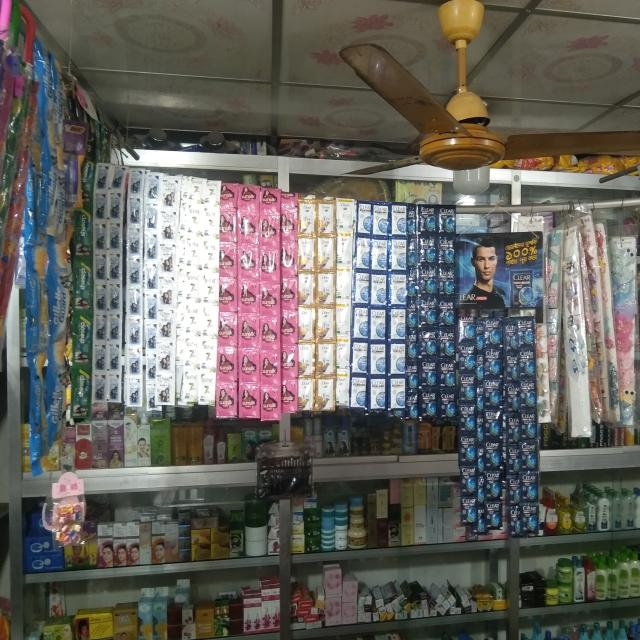non-ubl: (200, 306, 218, 342), (183, 271, 200, 306), (183, 369, 199, 404), (185, 234, 201, 269), (203, 270, 218, 306), (202, 238, 218, 271), (197, 373, 214, 404), (186, 204, 204, 233), (183, 306, 199, 337), (182, 342, 200, 368), (187, 178, 204, 203), (202, 342, 216, 371), (204, 207, 218, 235), (206, 184, 220, 204)
ubl: (70, 311, 92, 370), (70, 370, 92, 424), (72, 258, 92, 310), (296, 304, 318, 346), (367, 304, 390, 344), (457, 401, 479, 441), (314, 342, 337, 379), (387, 235, 411, 270), (370, 234, 390, 276), (295, 376, 317, 414), (73, 210, 91, 256), (387, 272, 408, 311), (314, 306, 334, 346), (296, 342, 317, 379), (258, 244, 279, 281), (238, 314, 259, 351), (388, 306, 410, 341), (215, 348, 237, 383), (238, 242, 258, 280), (238, 280, 260, 314), (314, 378, 337, 410), (216, 383, 237, 418), (296, 235, 316, 271), (259, 281, 279, 317), (458, 315, 479, 349), (154, 372, 175, 406), (519, 502, 538, 539), (259, 381, 278, 418), (417, 199, 436, 236), (354, 272, 373, 309), (239, 383, 259, 418), (238, 350, 259, 383), (371, 271, 389, 309), (389, 202, 408, 238), (419, 296, 439, 330), (352, 342, 372, 376), (418, 268, 439, 300), (259, 318, 280, 350), (258, 212, 279, 244), (388, 374, 406, 411), (438, 297, 456, 334), (352, 303, 370, 340), (316, 272, 334, 309), (483, 410, 502, 445), (315, 235, 334, 270), (458, 462, 478, 495), (158, 176, 178, 209), (518, 440, 539, 471), (155, 340, 176, 371), (483, 346, 501, 382), (436, 204, 454, 240), (298, 199, 316, 235), (481, 379, 500, 413), (348, 378, 368, 410), (354, 234, 370, 274), (238, 210, 258, 242), (457, 496, 479, 525), (481, 316, 499, 351), (459, 341, 477, 376), (436, 328, 454, 363), (356, 203, 374, 238), (218, 313, 236, 348), (373, 204, 390, 241), (388, 344, 407, 377), (370, 343, 388, 377), (316, 200, 334, 234), (219, 278, 237, 312), (157, 242, 176, 274), (158, 209, 176, 242), (518, 408, 538, 437), (517, 346, 537, 375), (259, 351, 279, 380), (458, 434, 475, 468), (419, 234, 436, 268), (519, 377, 537, 409), (459, 374, 477, 406), (157, 274, 175, 306), (220, 244, 237, 277), (220, 210, 237, 243), (419, 361, 439, 389), (370, 380, 388, 411), (123, 344, 141, 375), (520, 471, 539, 500), (518, 321, 537, 350), (156, 308, 174, 338), (126, 196, 144, 226), (419, 391, 438, 419), (438, 358, 454, 391), (106, 371, 122, 404), (92, 221, 109, 252), (439, 268, 455, 300), (107, 313, 123, 345), (106, 343, 122, 375), (437, 239, 454, 269), (124, 375, 141, 405), (125, 286, 142, 316), (484, 440, 500, 471), (298, 274, 314, 305), (486, 501, 504, 528), (238, 188, 260, 210), (126, 227, 143, 255), (126, 256, 142, 285), (91, 343, 107, 372), (439, 388, 456, 415), (127, 169, 144, 196), (260, 188, 279, 212), (109, 190, 124, 220), (421, 328, 437, 356), (125, 316, 141, 344), (108, 283, 122, 315), (108, 221, 122, 252), (108, 253, 121, 286), (94, 310, 107, 343), (92, 372, 106, 402), (485, 468, 501, 494), (94, 192, 108, 221), (96, 163, 110, 190), (93, 253, 106, 281), (222, 184, 236, 209), (94, 282, 106, 310), (112, 166, 125, 190)
